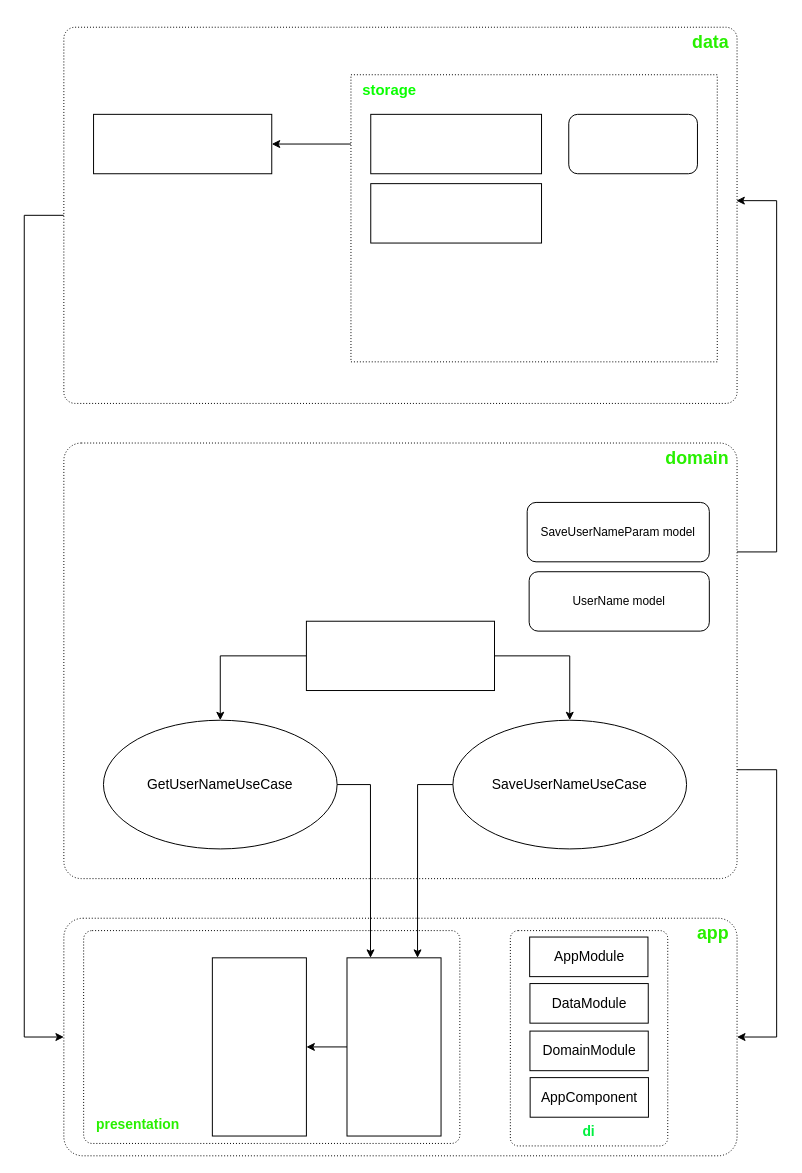
Image size: 802x1173. Some labels were removed from this diagram. Each missing label, with the centre of its shape:
"Activity" belongs at point (258, 1046).
"SharedPrefUserStorage implementation" belongs at point (456, 213).
"User model" belongs at point (632, 143).
"UserRepository interface" belongs at point (400, 655).
"UserRepositoryImpl implementation" belongs at point (182, 143).
"UserStorage interface" belongs at point (456, 143).
"viewModel" belongs at point (393, 1046).
